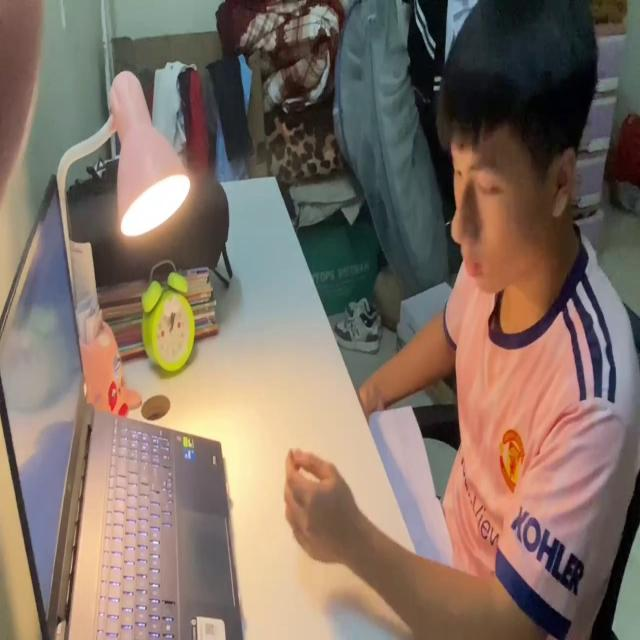book: (361, 398, 462, 586)
laptop: (0, 172, 246, 640)
student: (281, 0, 640, 640)
